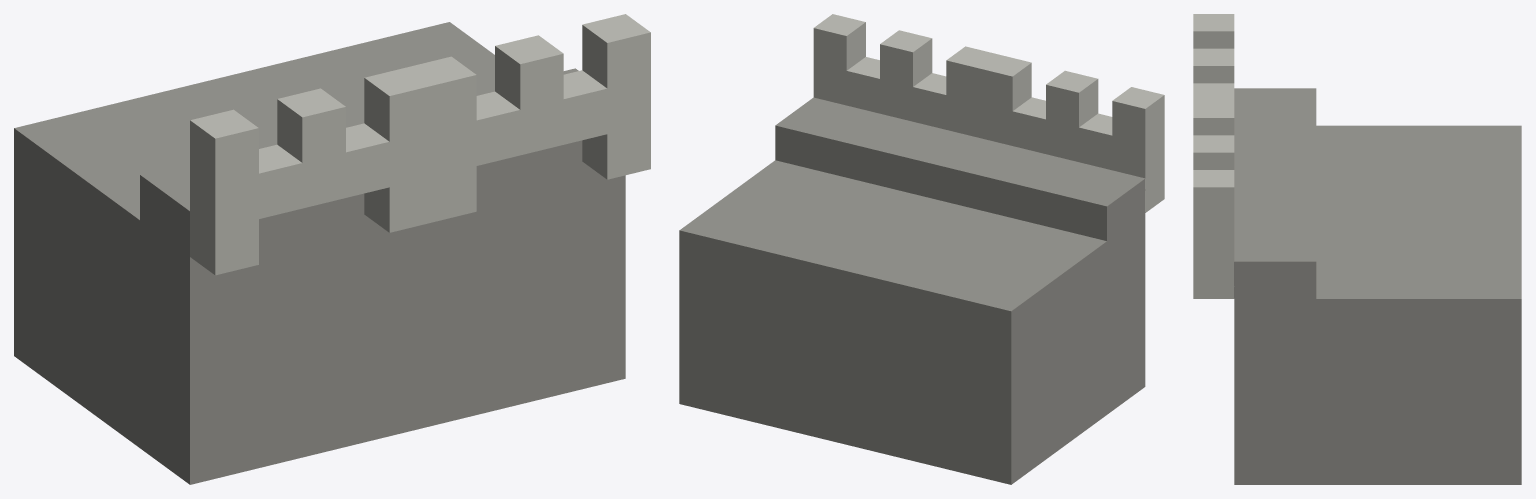
File: 1x1x5_onesided.fbx
3 renders of one model, left to right at view 1: azimuth 30°, elevation 25°; view 2: azimuth 150°, elevation 25°; view 3: azimuth 270°, elevation 25°, orthographic. The views are drawn at different scales.
Visible parts, largest first — view 1: Matrix; view 2: Matrix; view 3: Matrix.
Part boxes in pixels (x1=…): Matrix: x1=14, y1=14, x2=650, y2=484; Matrix: x1=679, y1=14, x2=1164, y2=484; Matrix: x1=1193, y1=14, x2=1521, y2=484.
Bounding box in the file's own units: 10 × 8 × 8.
1 material, 1 textured.
